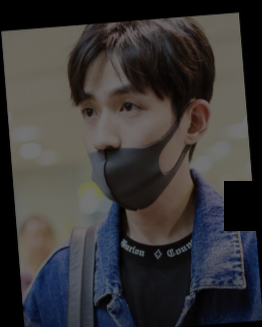mask_weared_incorrect: (80, 83, 174, 212)
